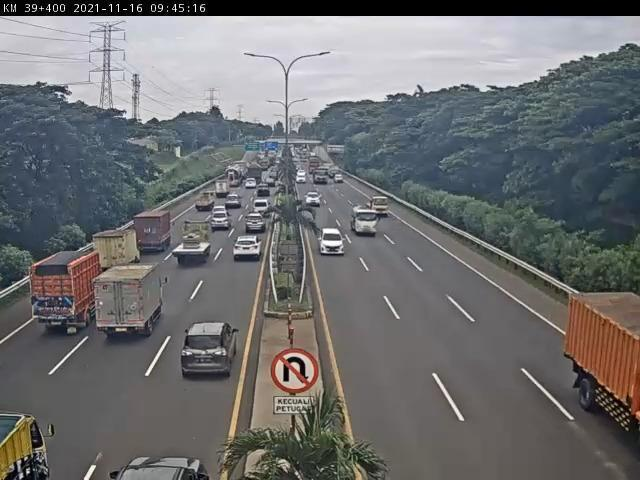car: (182, 324, 236, 375), (319, 228, 348, 255), (235, 237, 263, 261), (244, 218, 267, 241), (211, 216, 231, 235), (252, 202, 271, 221), (222, 197, 241, 214), (305, 193, 323, 210)
truck: (569, 290, 640, 449), (33, 255, 101, 332), (96, 267, 162, 340), (93, 231, 138, 275), (134, 211, 173, 253), (172, 223, 210, 265), (351, 207, 379, 236), (365, 198, 389, 217), (196, 190, 218, 210)
